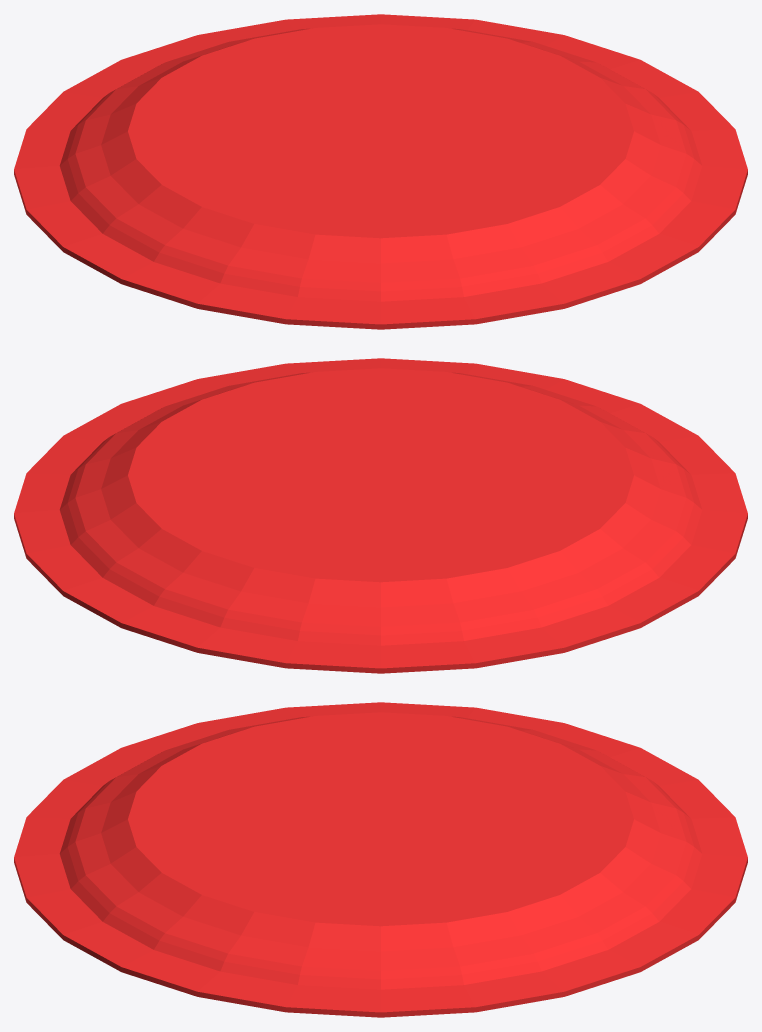
File: bennys frisbee.dae
3 renders of one model, top to bottom at view 1: azimuth 30°, elevation 25°; view 2: azimuth 150°, elevation 25°; view 3: azimuth 270°, elevation 25°, orthographic.
Parts seen in each view (by area): view 1: SketchUp (×2); view 2: SketchUp (×2); view 3: SketchUp (×2).
Part boxes in pixels (x1=…): SketchUp (×2): x1=14, y1=14, x2=747, y2=329; SketchUp (×2): x1=14, y1=358, x2=747, y2=673; SketchUp (×2): x1=14, y1=702, x2=747, y2=1017.
Bounding box in the file's own units: 24 × 24 × 1.56.
